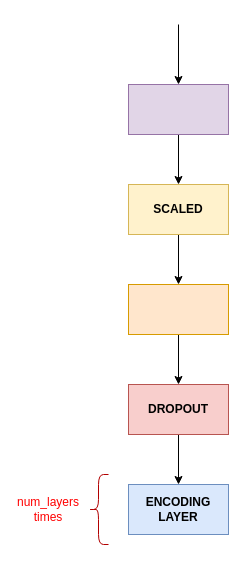
This 246x562 diagram has some shape labels left out. The centre of each missing label's shape, as x and y in pixels:
EMBEDDING: (x=178, y=109)
POSITIONAL ENCODING: (x=178, y=309)
